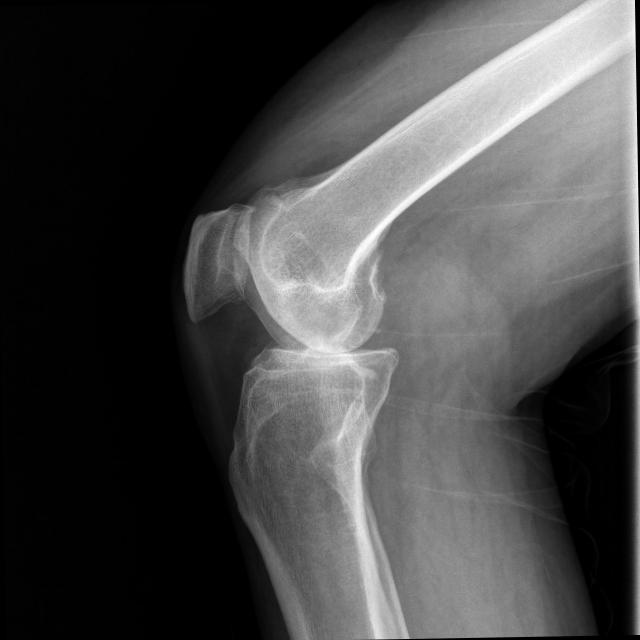Knee: (183, 196, 403, 442)
